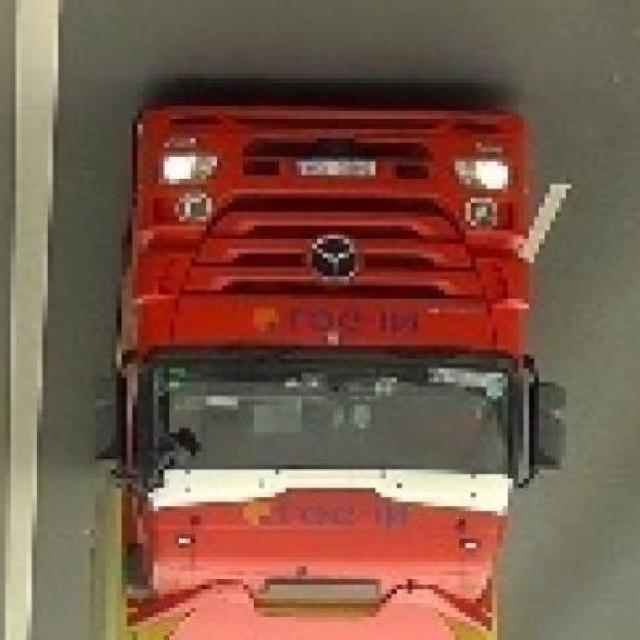truck: (107, 107, 573, 640)
